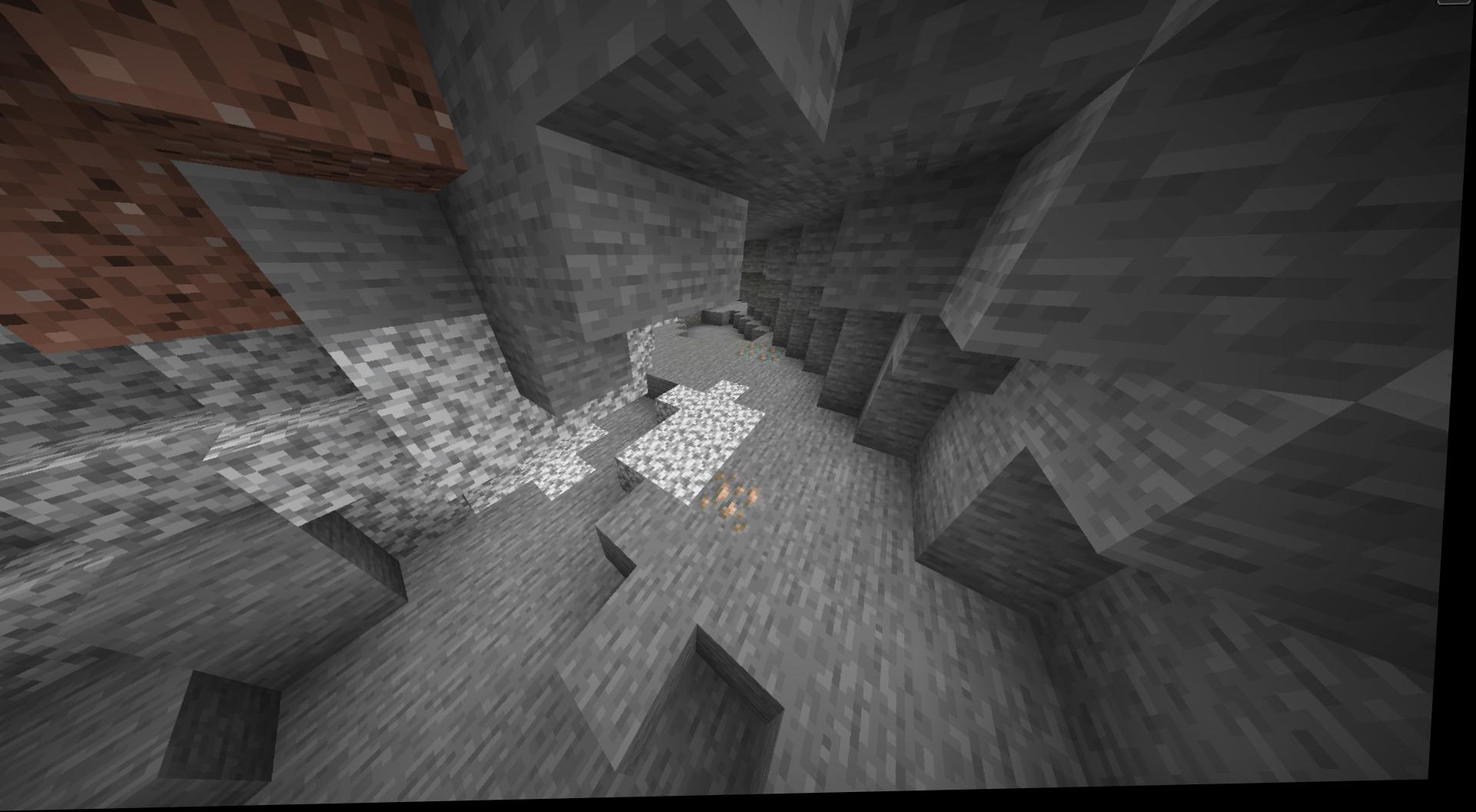iron ore: (706, 480, 768, 533)
